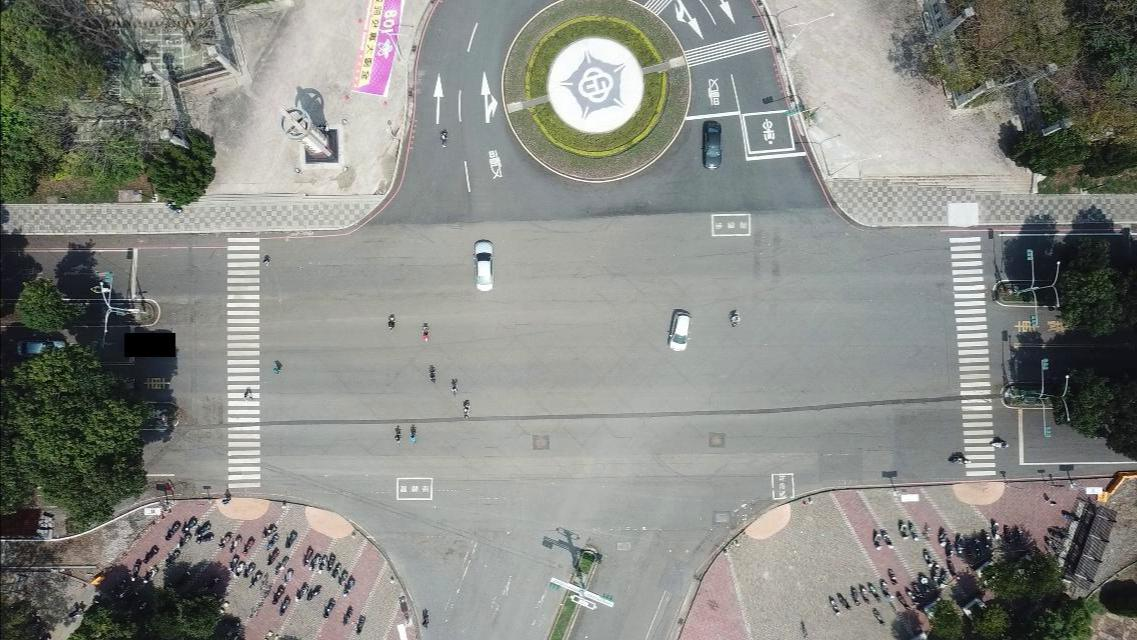vehicle: (701, 119, 723, 171), (667, 309, 692, 353), (473, 239, 494, 291), (15, 338, 67, 357)
